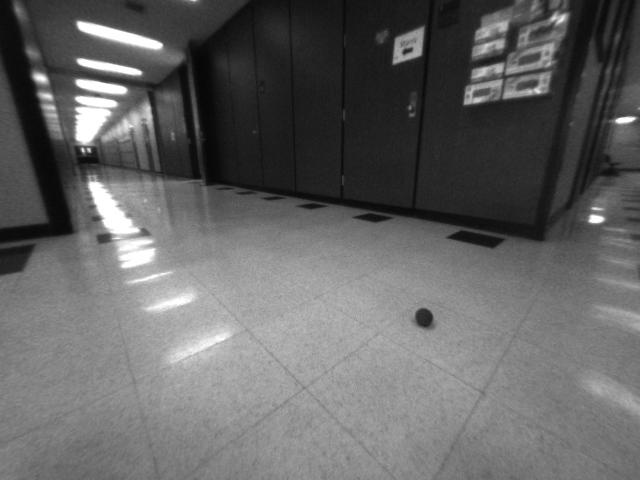dogtoy: (409, 301, 440, 330)
